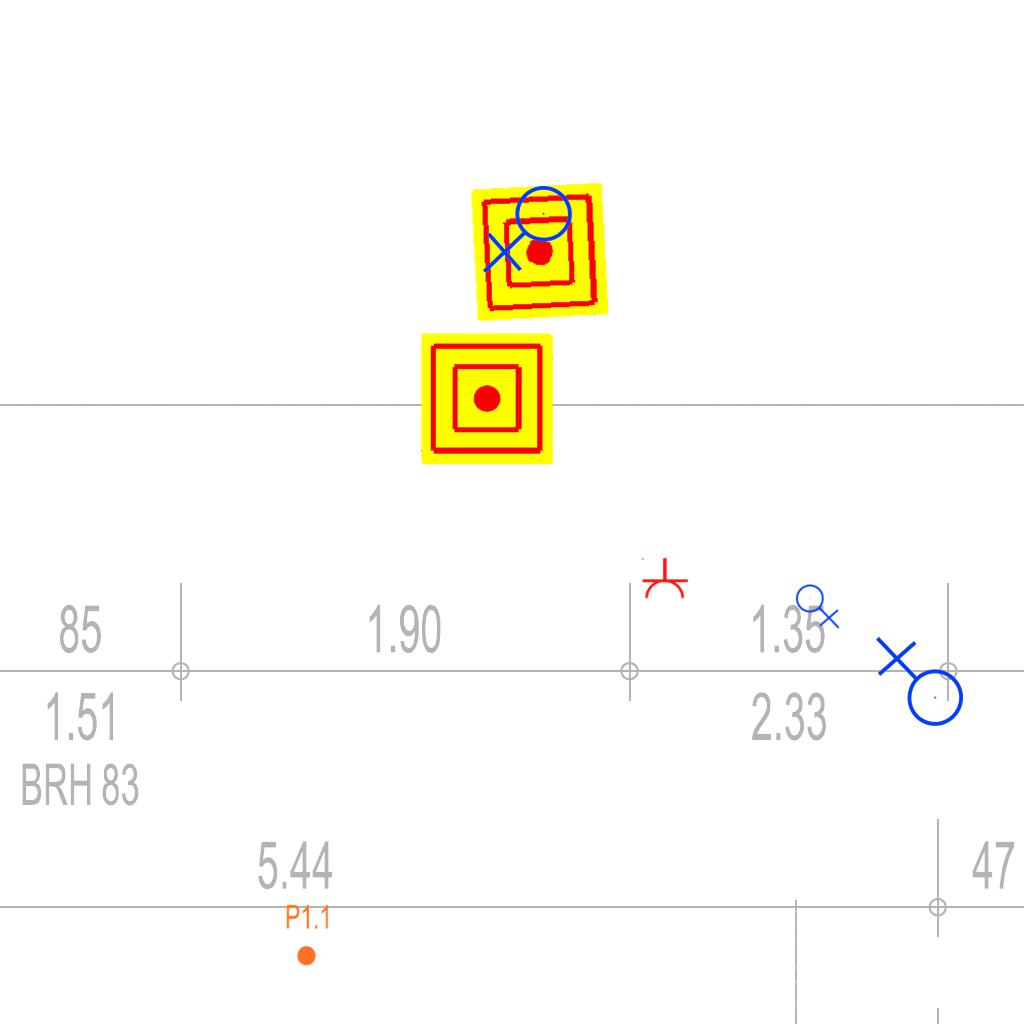Downlight_LED_Einbauleuchten_Flur: (285, 903, 331, 967)
Elektroanschluss_allgemein_230V_Geraeteanschlussdose_230V: (871, 636, 965, 735), (482, 184, 581, 278), (795, 580, 842, 629)
NAM-Nichtautomatischer_Melder: (470, 182, 610, 322), (421, 333, 553, 465)
Schukosteckdose_einfach: (639, 557, 689, 600)
